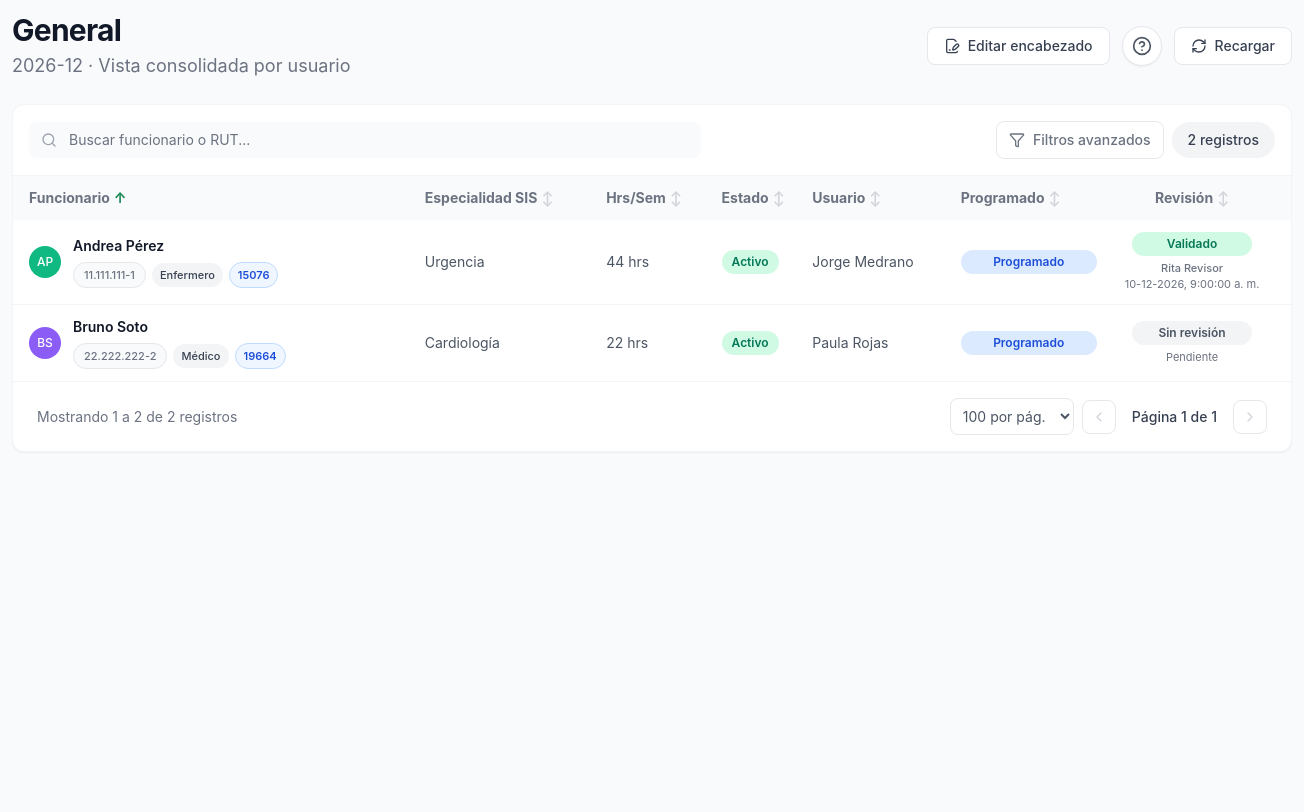
Test: General page › incluye Revisión en filtros avanzados
Expected: the button "Andrea Pérez" is shown, x1=73 y1=236 x2=393 y2=256
Click the button with aria-label "mostrar filtros avanzados".
click(1080, 140)  # box x1=996 y1=121 x2=1164 y2=159
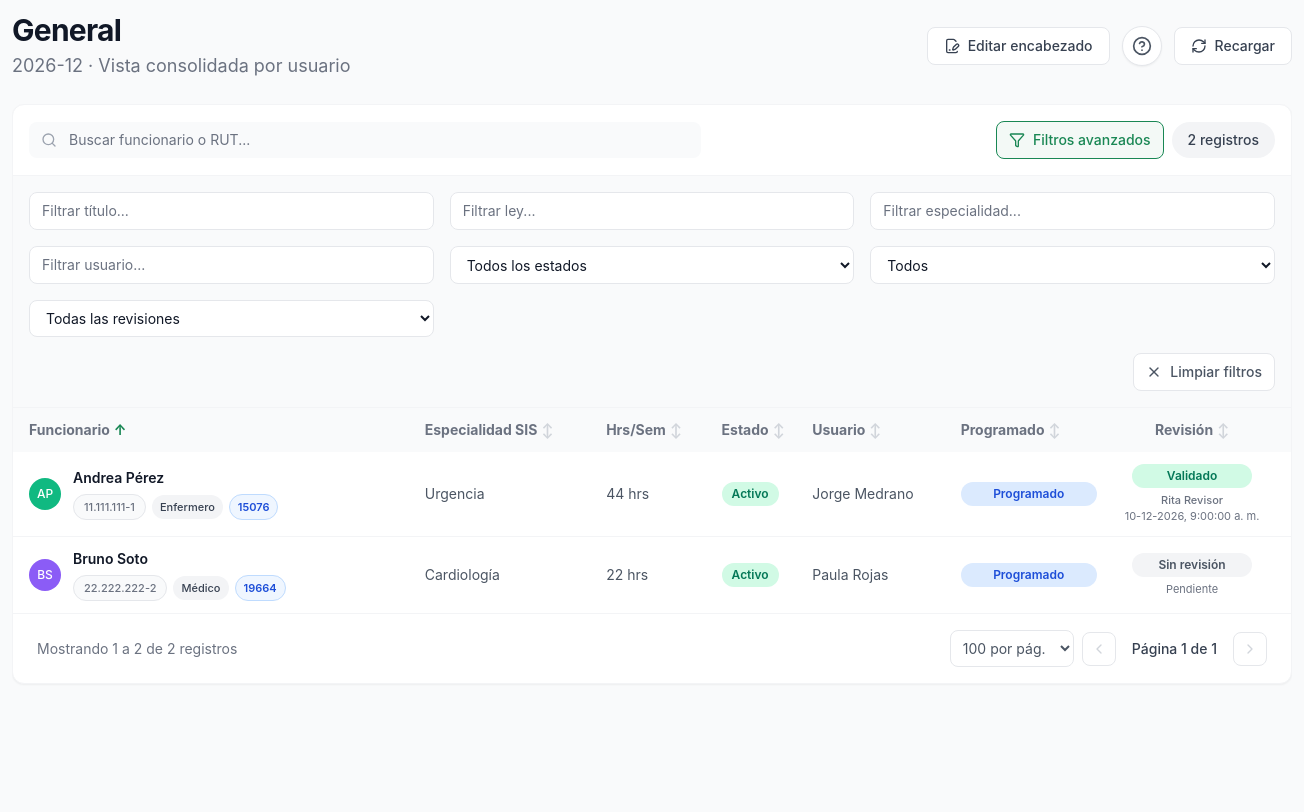
Select "Validado" in the dropdown named "filtrar por revisión" at (231, 318), box x1=29 y1=300 x2=434 y2=337
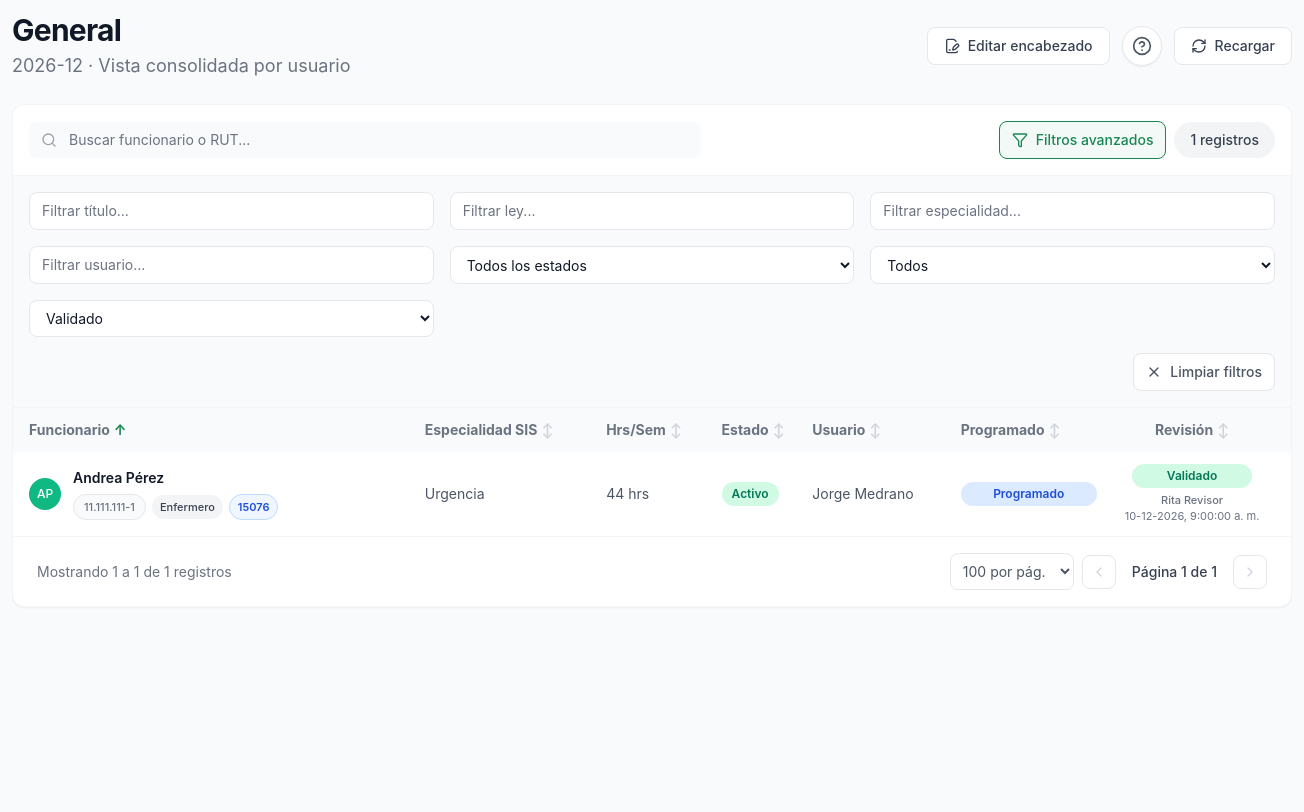
Expected: the button "Andrea Pérez" is shown, x1=73 y1=468 x2=393 y2=488
Result: the button "Bruno Soto" is gone
